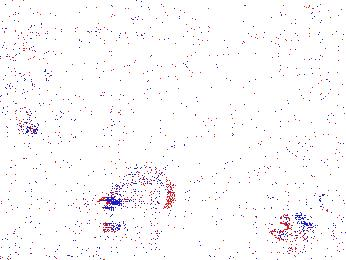flame jellyfish: (269, 185, 346, 244), (1, 50, 53, 135), (100, 164, 172, 217)
